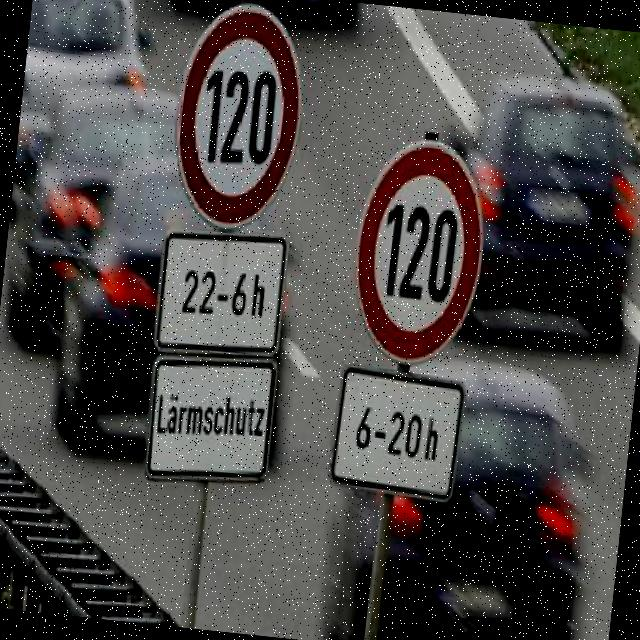Ograniczenie predkosci do 120: (350, 144, 487, 367)
